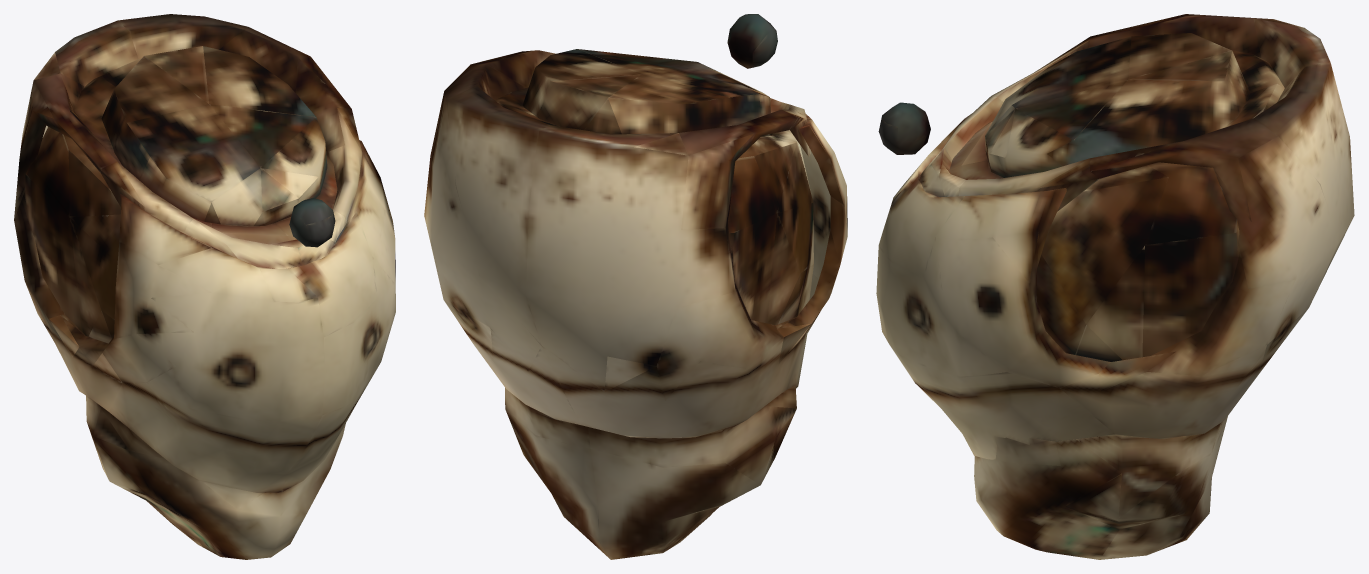
File: body-carapace.glb
3 views of the same model, side by side, from view 1: azimuth 30°, elevation 25°; view 2: azimuth 150°, elevation 25°; view 3: azimuth 270°, elevation 25° (orthographic). The views are drawn at different scales.
Parts seen in each view (by area): view 1: body-carapace; view 2: body-carapace; view 3: body-carapace.
Boxes of the visible parts, bbox=[...] form: body-carapace: bbox=[14, 14, 395, 559]; body-carapace: bbox=[424, 14, 847, 559]; body-carapace: bbox=[876, 14, 1354, 559].
Size of the model in its own units: 0.6309 by 0.9375 by 0.8223.
Materials: 1 (1 with a texture image).
